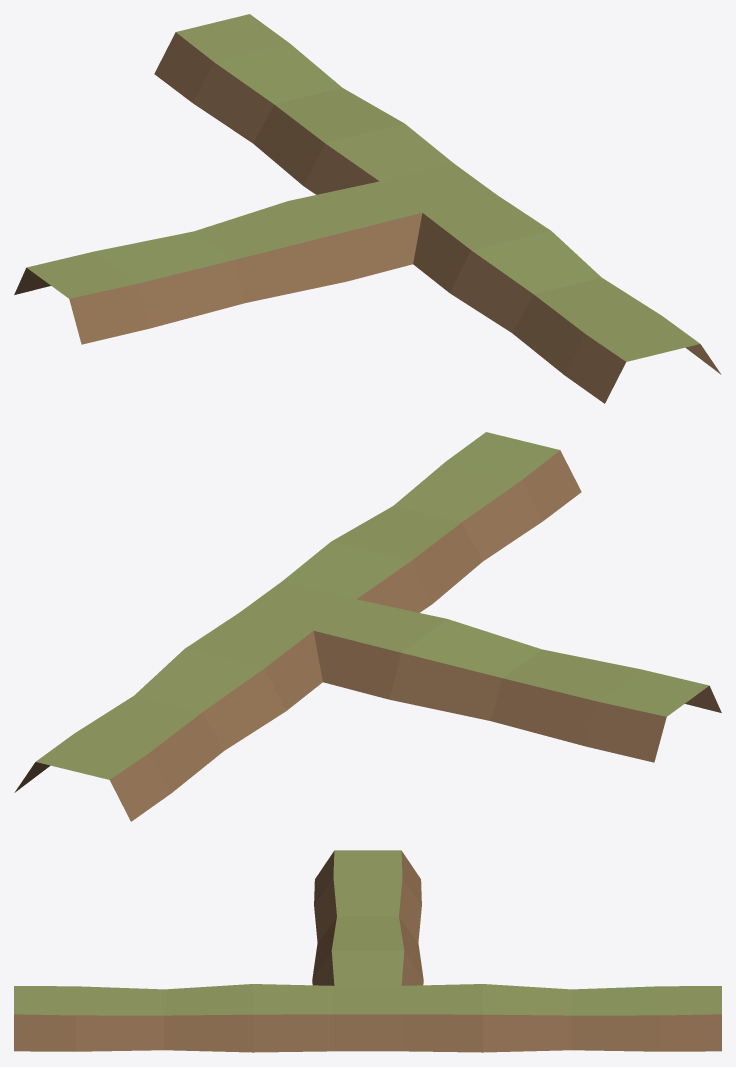
File: Varambu_T.glb
3 views of the same model, one above another, from view 1: azimuth 30°, elevation 25°; view 2: azimuth 150°, elevation 25°; view 3: azimuth 270°, elevation 25° (orthographic). The views are drawn at different scales.
Visible parts, largest first — view 1: Varambu_T; view 2: Varambu_T; view 3: Varambu_T.
Boxes of the visible parts, bbox=[...] form: Varambu_T: bbox=[14, 14, 721, 403]; Varambu_T: bbox=[14, 432, 721, 821]; Varambu_T: bbox=[14, 850, 721, 1052].
Bounding box in the file's own units: 2.31 × 0.185 × 4.
